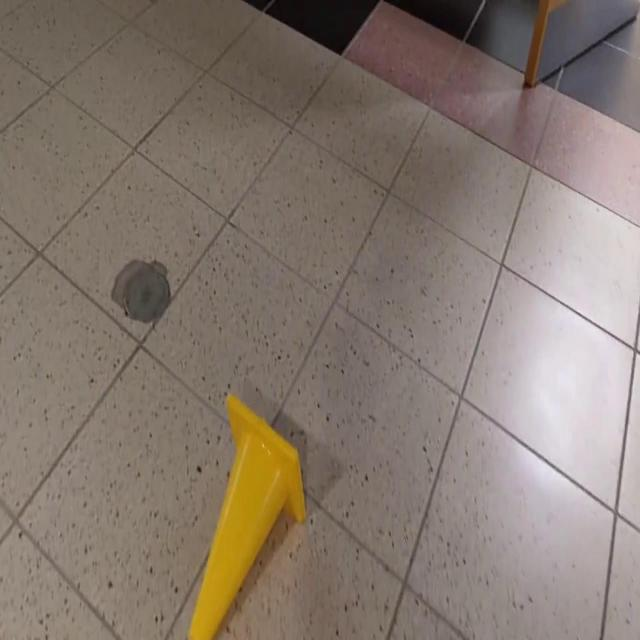frc_cone: (188, 394, 306, 640)
